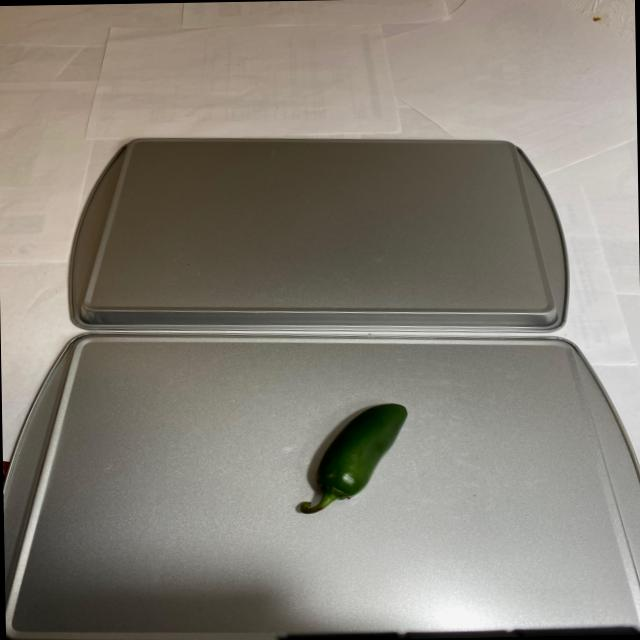chilli: (289, 402, 415, 524)
